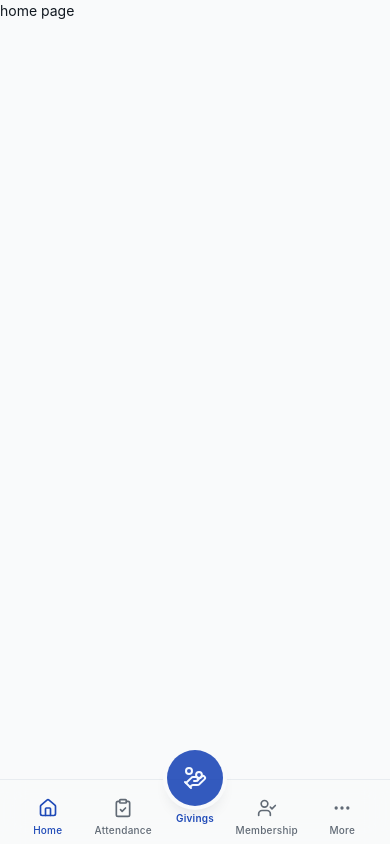
Test: MobileTabBar › navigates to Settings from More and closes the sheet
Click the button "More". click: [342, 814]
box: [306,790,378,838]
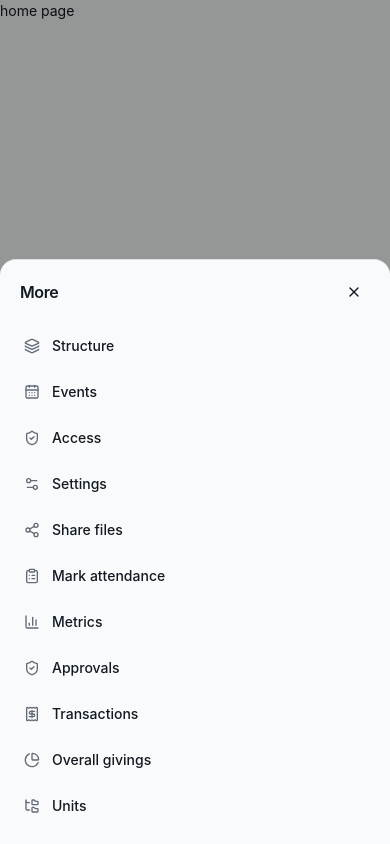
Click the link "Settings". click: [65, 484]
box: [24,475,107,492]
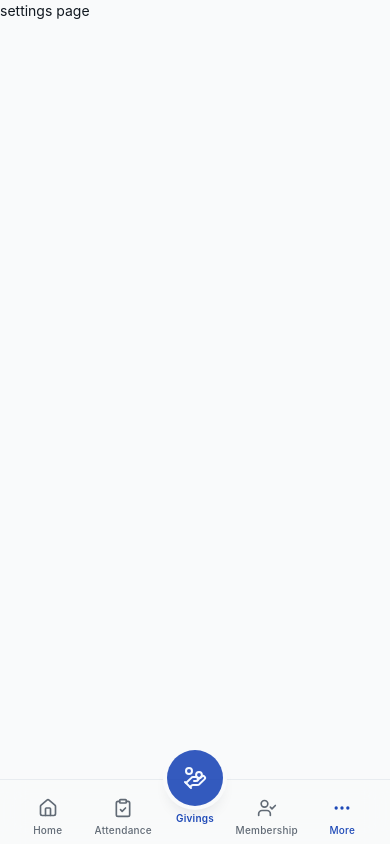
Check: the text "settings page" is shown, box [0,2,90,19]
